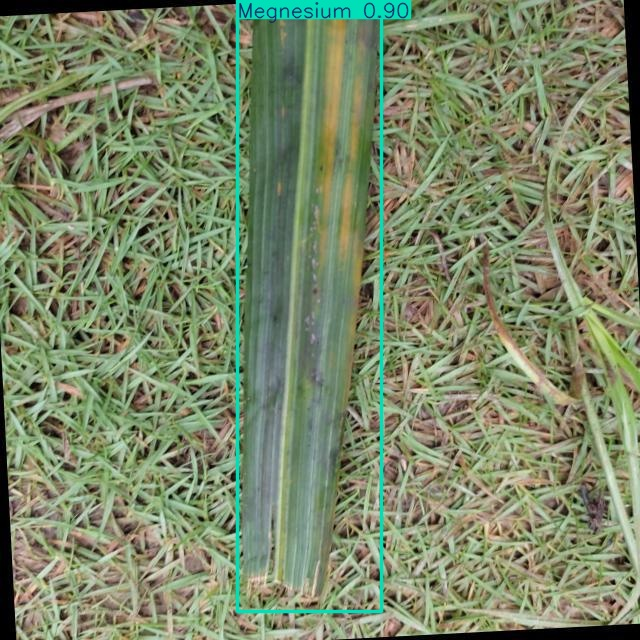Megnesium: (237, 0, 381, 611)
